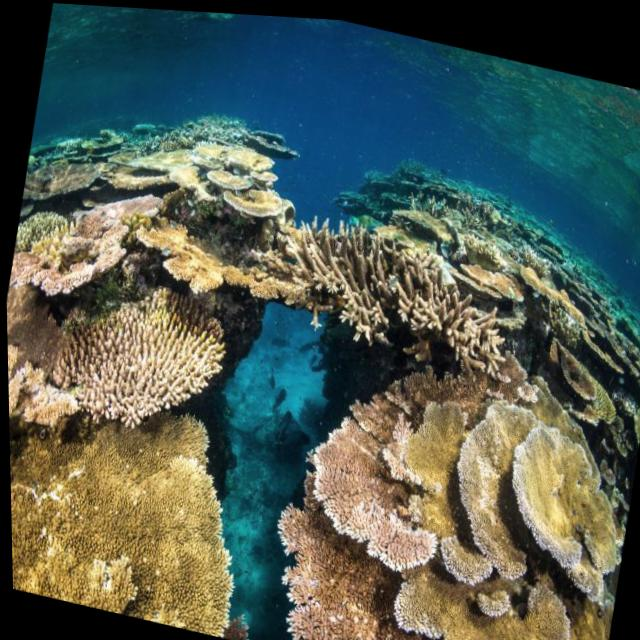Healthy Coral: (249, 351, 640, 640), (1, 75, 291, 429), (214, 168, 526, 384), (7, 385, 262, 638), (486, 235, 640, 448)
